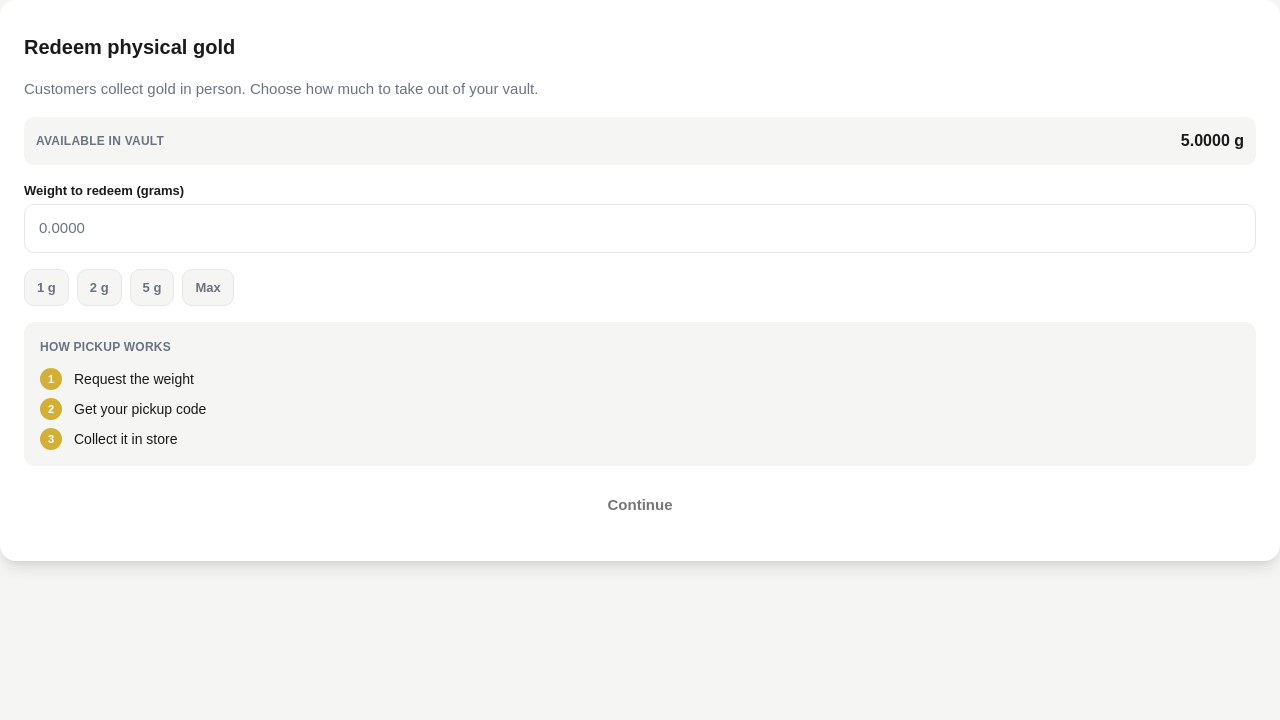
Test case: RedeemFlow › rejects less than the 1 g minimum
Step 1. Type "0.5" into the field labelled "Weight to redeem (grams)" → (640, 228), box [37, 205, 1243, 252]
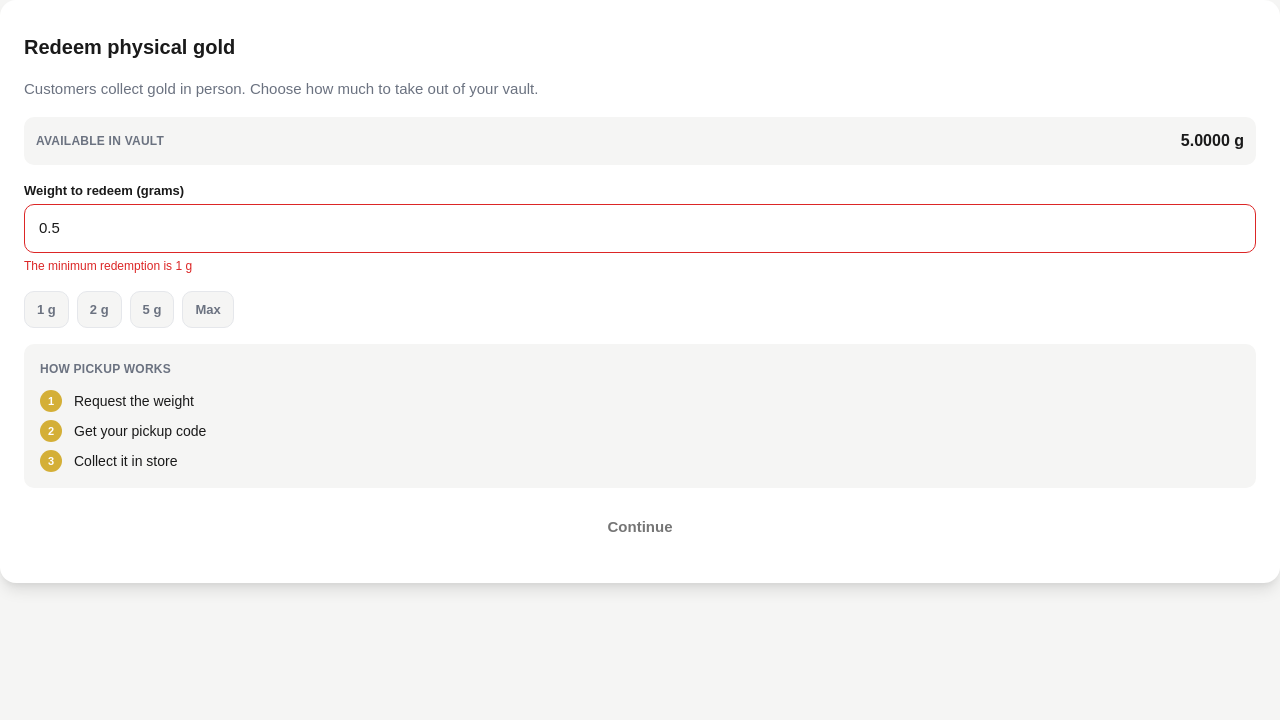
Result: the text "The minimum redemption is 1 g" is shown at [24, 258, 192, 272]
